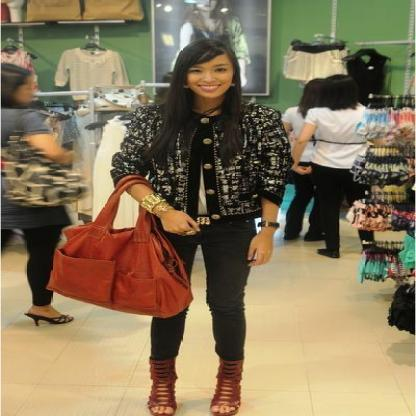bag: (70, 208, 192, 318)
jacket: (110, 98, 298, 215)
pants: (149, 209, 278, 365)
shoe: (150, 358, 242, 386)
